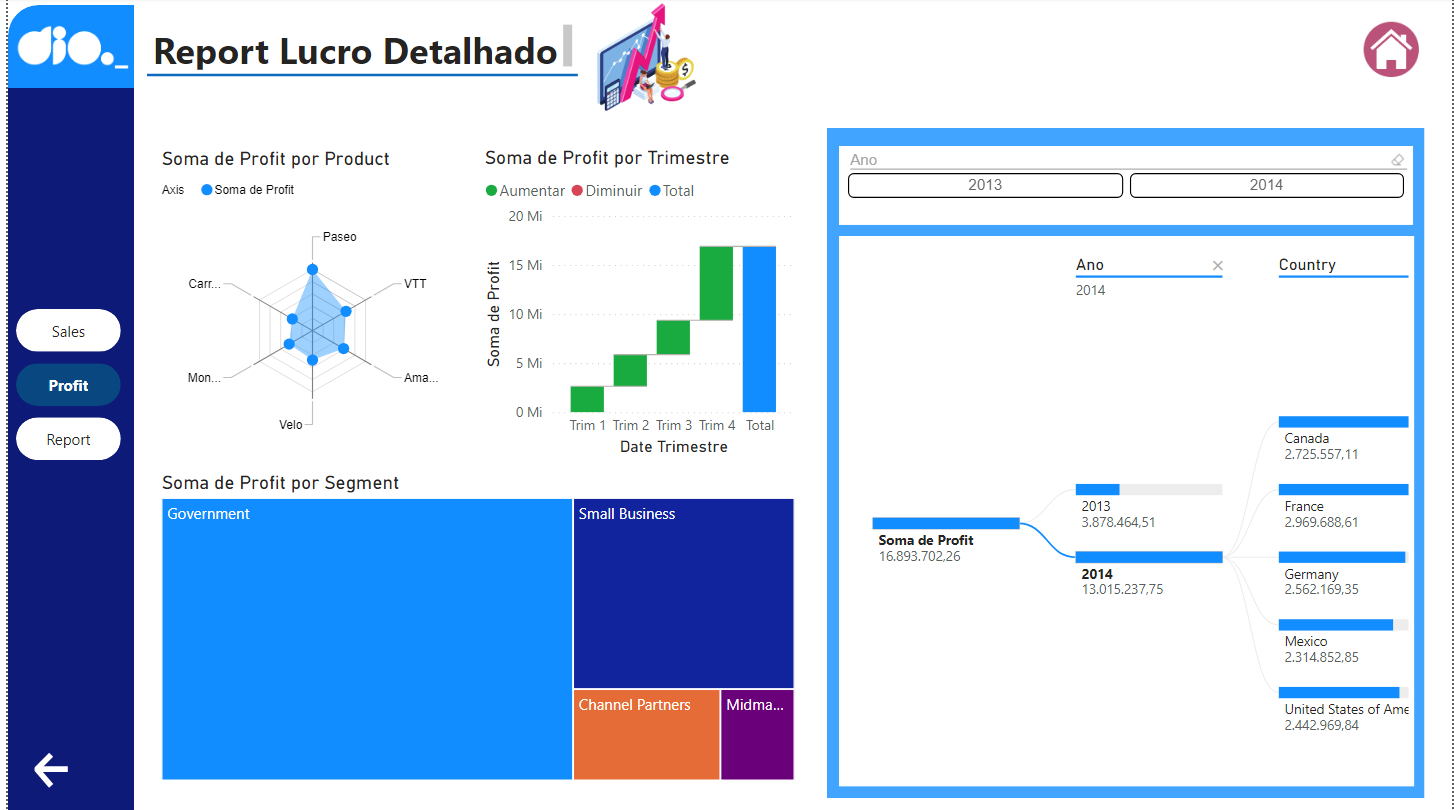

Layout of this report page (visuals, bound fields, positions):
{"tool":"powerbi","page":{"name":"Profit","canvas":[1280,720],"ordinal":1},"visuals":[{"type":"actionButton","box":[1197.8,17.1,57.6,56.7],"z":0,"group":"g1"},{"type":"shape","box":[0,7.1,111.7,712.9],"z":0},{"type":"image","box":[1197,15.1,59.4,60.3],"z":1000,"group":"g1"},{"type":"shape","box":[0,6.2,111.7,73.6],"z":1000},{"type":"shape","box":[111.7,7.1,1168.7,72.7],"z":2000},{"type":"image","title":"logo_dio","box":[3.5,9.8,108.2,68.3],"z":3000},{"type":"actionButton","box":[19.3,665.3,40.4,39.5],"z":4000},{"type":"shape","box":[123.3,58.5,382.2,19.5],"z":5000},{"type":"textbox","title":"Title Report","box":[123.3,18.6,382.2,49.7],"z":6000},{"type":"waterfallChart","fields":{"Y":["Sum(financials.Profit)"],"Category":["financials.Date.Variation.Hierarquia de datas.Trimestre"]},"box":[417.6,131.2,284.6,279.3],"z":7000},{"type":"treemap","fields":{"Values":["Sum(financials.Profit)"],"Group":["financials.Segment"]},"box":[131.2,419.4,571,279.3],"z":8000},{"type":"RadarChart1446119667547","fields":{"Category":["financials.Product"],"Y":["Sum(financials.Profit)"]},"box":[131.2,132.1,277.5,279.3],"z":9000},{"type":"shape","box":[726.2,115,529.8,594],"z":10000},{"type":"decompositionTreeVisual","fields":{"ExplainBy":["financials.Date.Variation.Hierarquia de datas.Ano","financials.Country"],"Analyze":["Sum(financials.Profit)"]},"box":[736.8,211,509.9,487.7],"z":11000},{"type":"ChicletSlicer1448559807354","fields":{"Category":["financials.Date.Variation.Hierarquia de datas.Ano"]},"box":[736.8,131.2,509,70],"z":12000},{"type":"pageNavigator","box":[7.1,275.8,93.1,134.8],"z":13000},{"type":"image","box":[511.6,0,110,104.6],"z":14000},{"type":"group","id":"g1","title":"B - Home","box":[1197,15.1,59.4,60.3],"z":15000}]}

Visuals, with their boxes in screenshot pixels (x1, y1, x2, y2), scaled from the page's 1280x720 canvas onto the 1454x810 screenshot:
actionButton: (1361,19,1426,83)
shape: (0,8,127,809)
image: (1360,17,1427,85)
shape: (0,7,127,90)
shape: (127,8,1453,90)
"logo_dio" image: (4,11,127,88)
actionButton: (22,748,68,793)
shape: (140,66,574,88)
"Title Report" textbox: (140,21,574,77)
waterfallChart - Sum(financials.Profit) x financials.Date.Variation.Hierarquia de datas.Trimestre: (474,148,798,462)
treemap - Sum(financials.Profit) x financials.Segment: (149,472,798,786)
RadarChart1446119667547 - financials.Product x Sum(financials.Profit): (149,149,464,463)
shape: (825,129,1427,798)
decompositionTreeVisual - financials.Date.Variation.Hierarquia de datas.Ano x financials.Country: (837,237,1416,786)
ChicletSlicer1448559807354 - financials.Date.Variation.Hierarquia de datas.Ano: (837,148,1415,226)
pageNavigator: (8,310,114,462)
image: (581,0,706,118)
"B - Home" group: (1360,17,1427,85)
